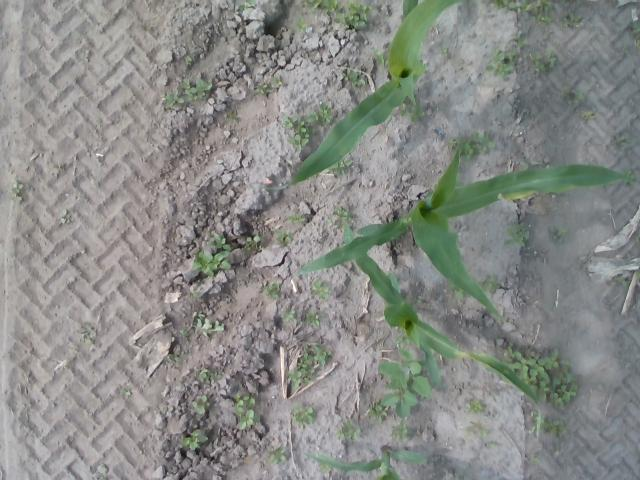Maize: (296, 146, 634, 322), (343, 205, 541, 442), (264, 0, 461, 190), (304, 446, 428, 480)
Weeds: (506, 344, 575, 411), (278, 104, 332, 150), (484, 30, 528, 82), (286, 344, 332, 388), (163, 74, 214, 106), (180, 310, 227, 341), (449, 132, 496, 161), (233, 392, 262, 434), (333, 0, 374, 29), (522, 0, 553, 31), (323, 204, 357, 232), (192, 250, 231, 274), (334, 418, 364, 442), (542, 416, 572, 440), (530, 51, 556, 77), (182, 428, 210, 452), (506, 222, 530, 249), (338, 68, 368, 89), (292, 404, 318, 428), (300, 0, 340, 15), (560, 87, 588, 108), (389, 419, 412, 444), (194, 366, 224, 385), (397, 104, 427, 123), (274, 229, 298, 251), (612, 131, 636, 152), (261, 283, 284, 304), (460, 422, 489, 438), (330, 160, 356, 177), (191, 394, 211, 416), (309, 279, 329, 301), (368, 404, 389, 424), (77, 322, 96, 344), (268, 446, 287, 467), (489, 0, 519, 13), (479, 275, 499, 294), (224, 106, 242, 127), (562, 12, 583, 30), (208, 234, 231, 250), (242, 236, 262, 252), (294, 15, 309, 36), (284, 216, 310, 228), (468, 400, 485, 417), (12, 178, 24, 202), (254, 80, 272, 96), (279, 308, 296, 324), (371, 48, 387, 64), (167, 354, 190, 365), (306, 310, 320, 328), (554, 226, 568, 244), (528, 451, 544, 466), (238, 0, 256, 13), (629, 21, 640, 40), (270, 74, 282, 90), (624, 170, 636, 186), (610, 278, 628, 288), (189, 290, 203, 302), (61, 209, 71, 225), (121, 389, 133, 402), (80, 50, 90, 64), (581, 111, 596, 120), (184, 55, 196, 66), (438, 48, 449, 60), (52, 163, 66, 172), (454, 469, 464, 480), (319, 466, 332, 474), (195, 278, 207, 286), (489, 442, 497, 450), (170, 233, 180, 239)
